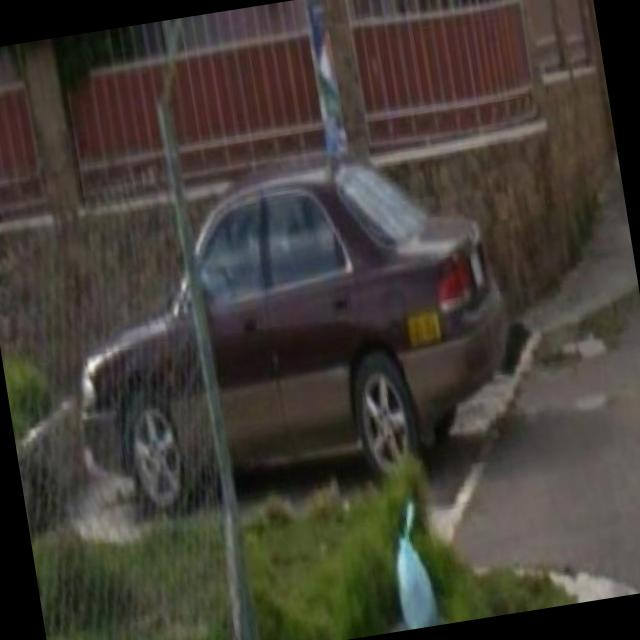car: (59, 167, 534, 532)
